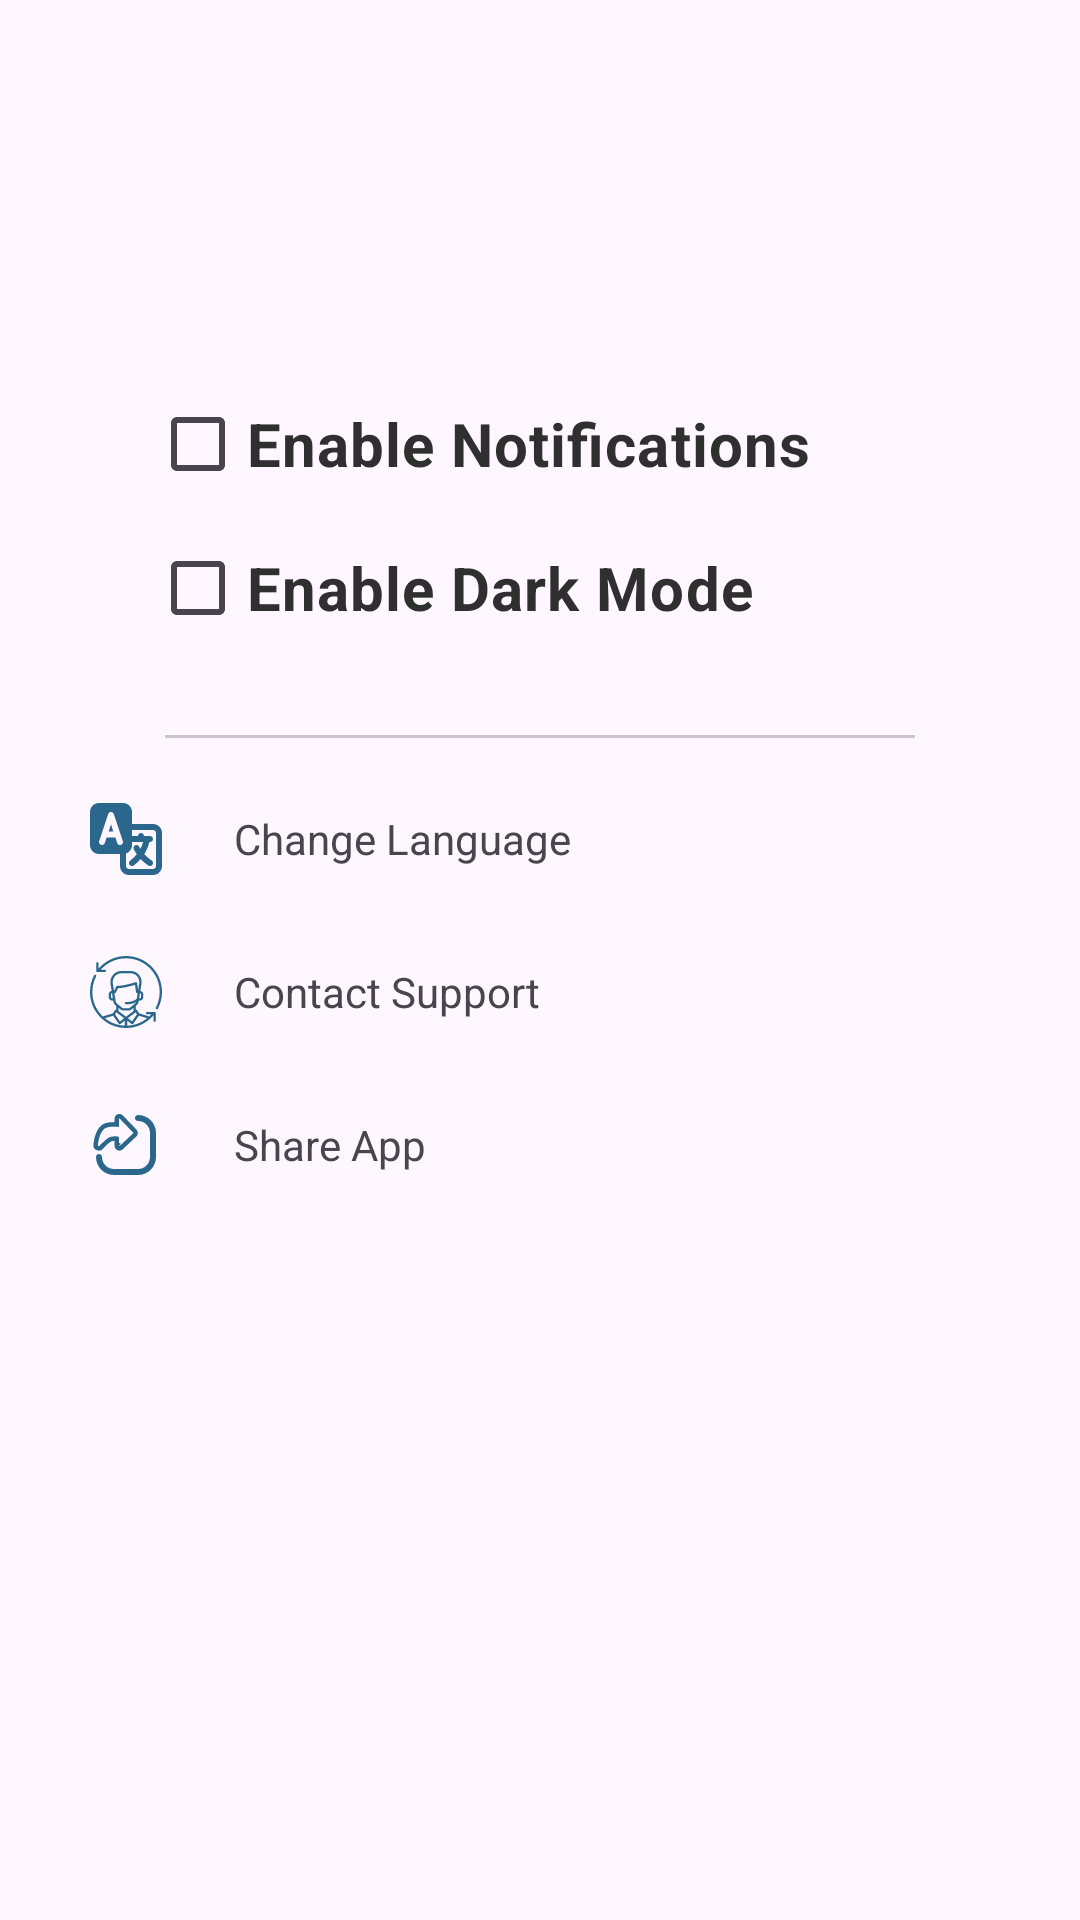

Named icons in this screenshot (1080 x 1920) and their bounding boxes, bbox=[x1, y1, x2, y2]:
customer service help: bbox=[90, 956, 162, 1028]
